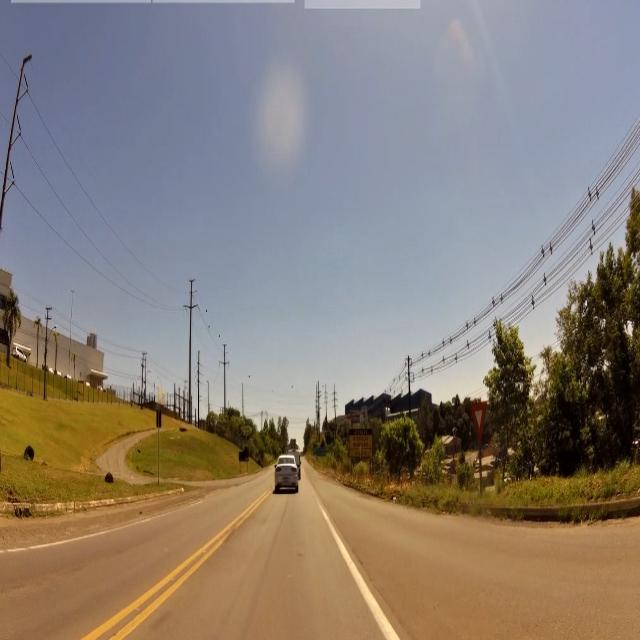R-2: (469, 401, 488, 438)
